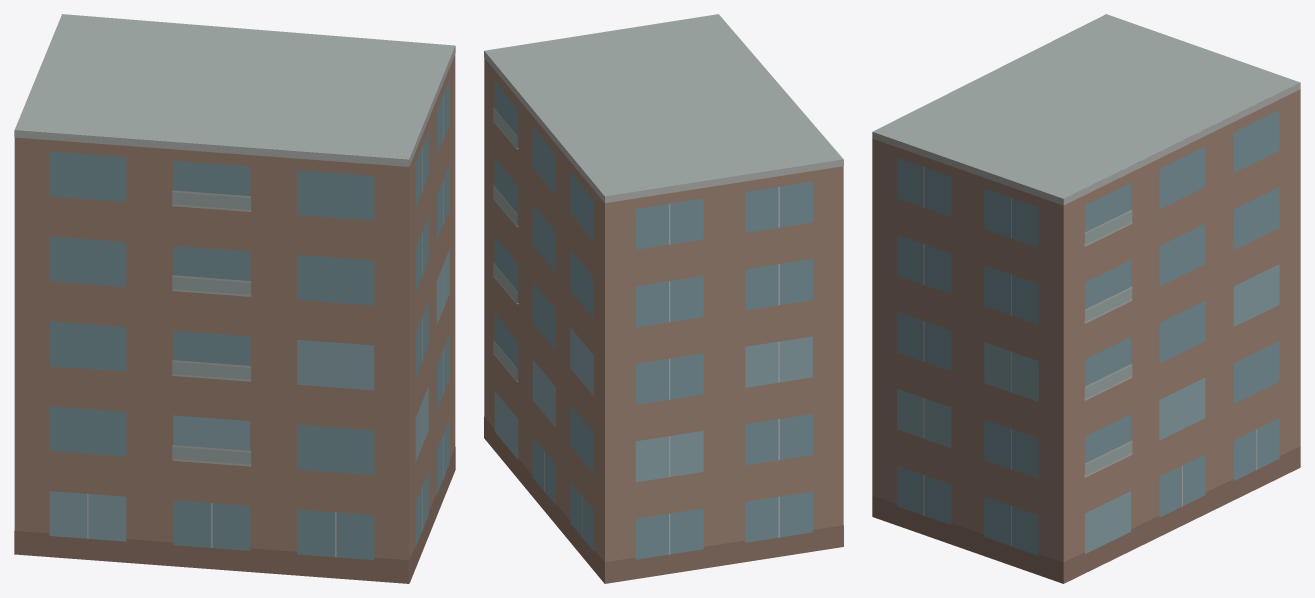
Rendered from survey-upis-32883586.glb.
3 views of the same model, side by side, from view 1: azimuth 30°, elevation 25°; view 2: azimuth 150°, elevation 25°; view 3: azimuth 270°, elevation 25° (orthographic). The views are drawn at different scales.
Visible parts, largest first — view 1: survey-upis-32883586.tmp; view 2: survey-upis-32883586.tmp; view 3: survey-upis-32883586.tmp.
Part boxes in pixels (bbox=[...]): survey-upis-32883586.tmp: bbox=[14, 14, 455, 583]; survey-upis-32883586.tmp: bbox=[484, 14, 843, 583]; survey-upis-32883586.tmp: bbox=[872, 14, 1300, 583].
Size of the model in its own units: 14.46 by 14.04 by 14.16.
